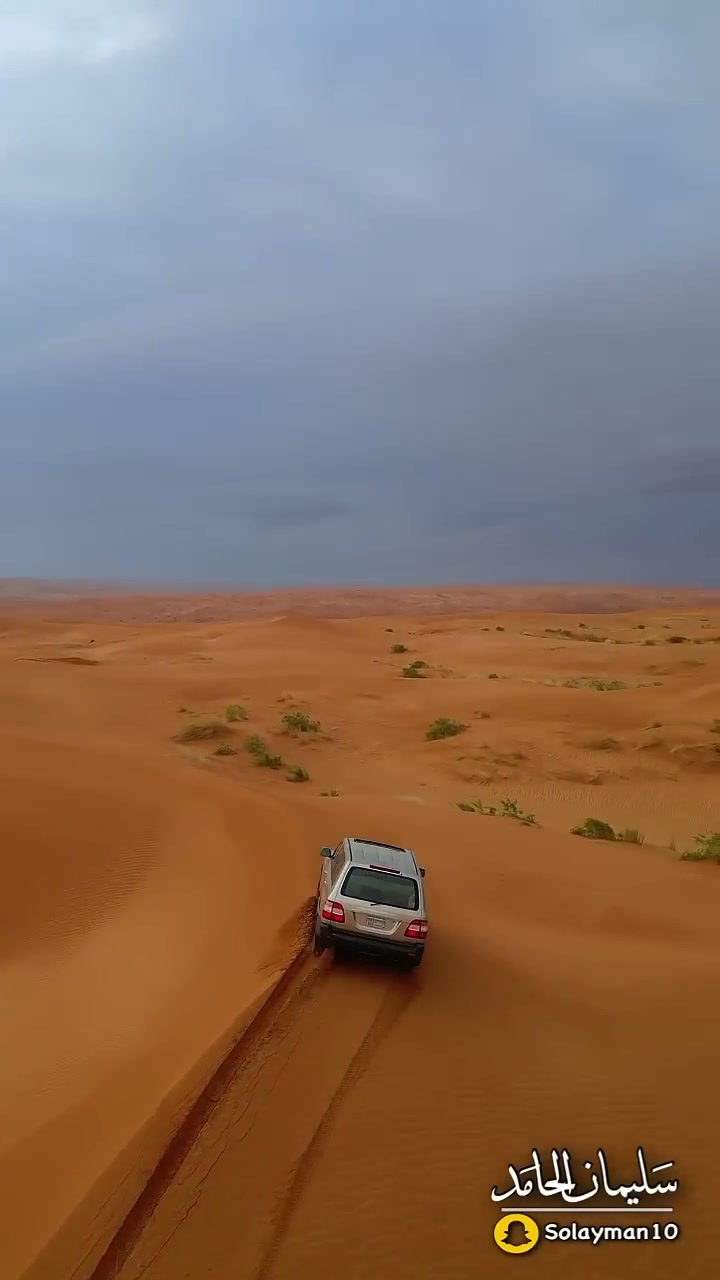vehicle_track: (87, 944, 318, 1279), (253, 975, 414, 1279)
